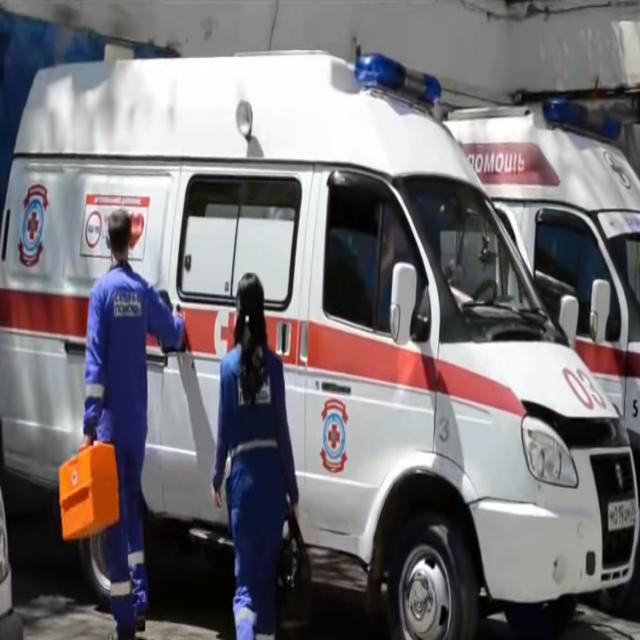ambulance: (1, 47, 639, 640), (440, 97, 640, 462)
